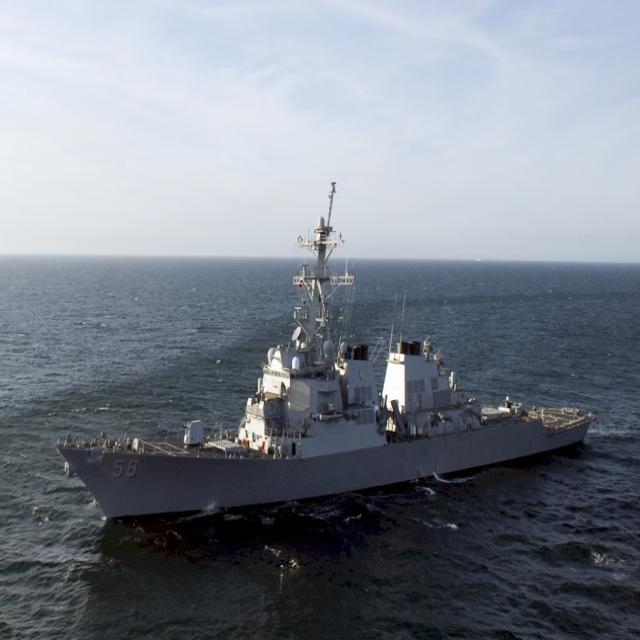navalvessels: (48, 168, 586, 540)
